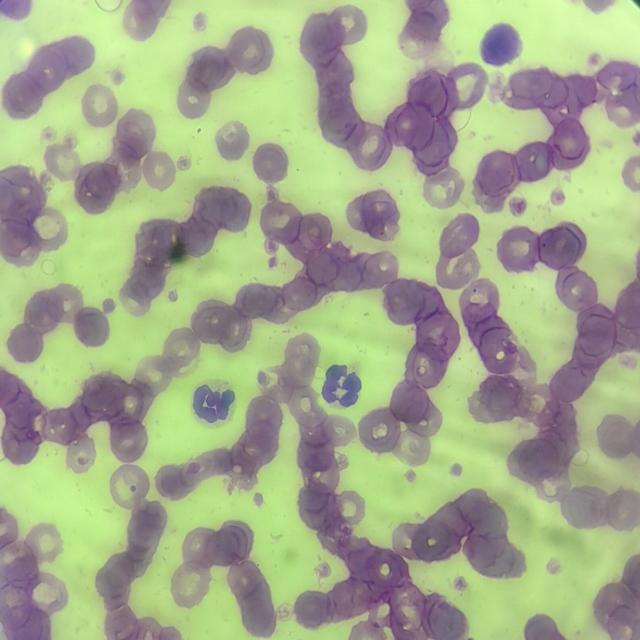Neutrofilo: (191, 378, 239, 429), (322, 365, 365, 410)
